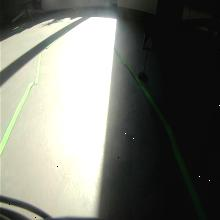crosswalk: (142, 32, 157, 52)
